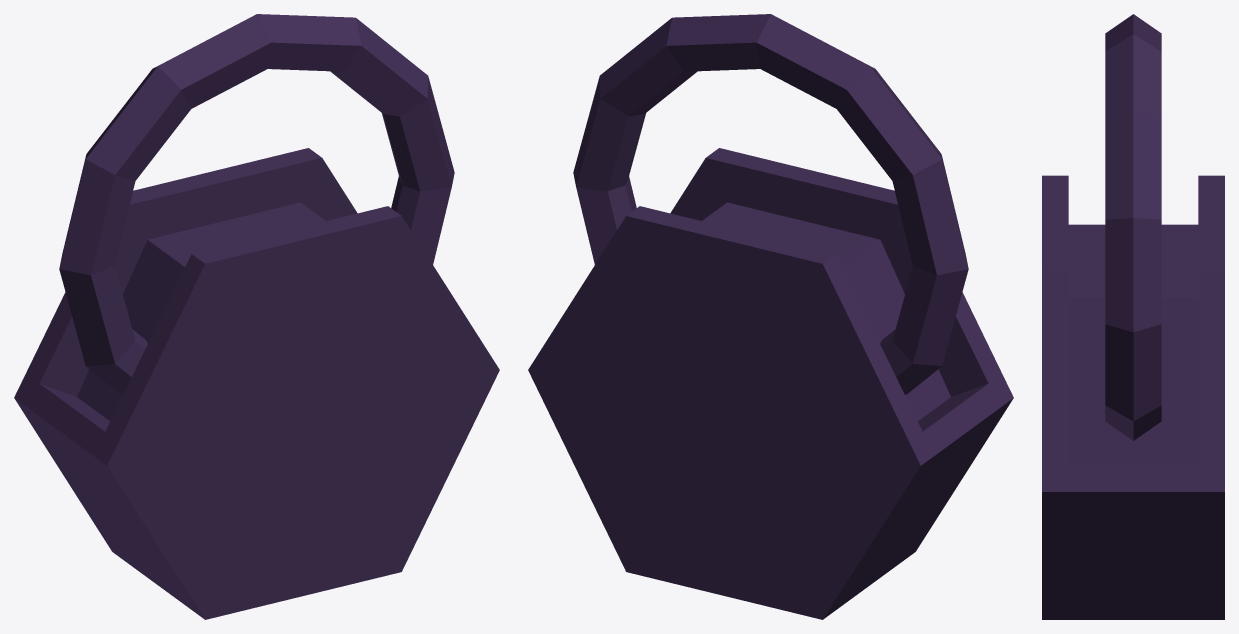
File: kettle_bell.fbx
The picture shows the model from 3 angles, left to right: view 1: azimuth 30°, elevation 25°; view 2: azimuth 150°, elevation 25°; view 3: azimuth 270°, elevation 25°; orthographic projection.
Parts seen in each view (by area): view 1: kettle_bell; view 2: kettle_bell; view 3: kettle_bell.
Part boxes in pixels (left/top/right/bottom): kettle_bell: left=14, top=14, right=499, bottom=619; kettle_bell: left=528, top=14, right=1013, bottom=619; kettle_bell: left=1042, top=14, right=1224, bottom=619.
Size of the model in its own units: 0.9918 by 1.31 by 0.4042.
